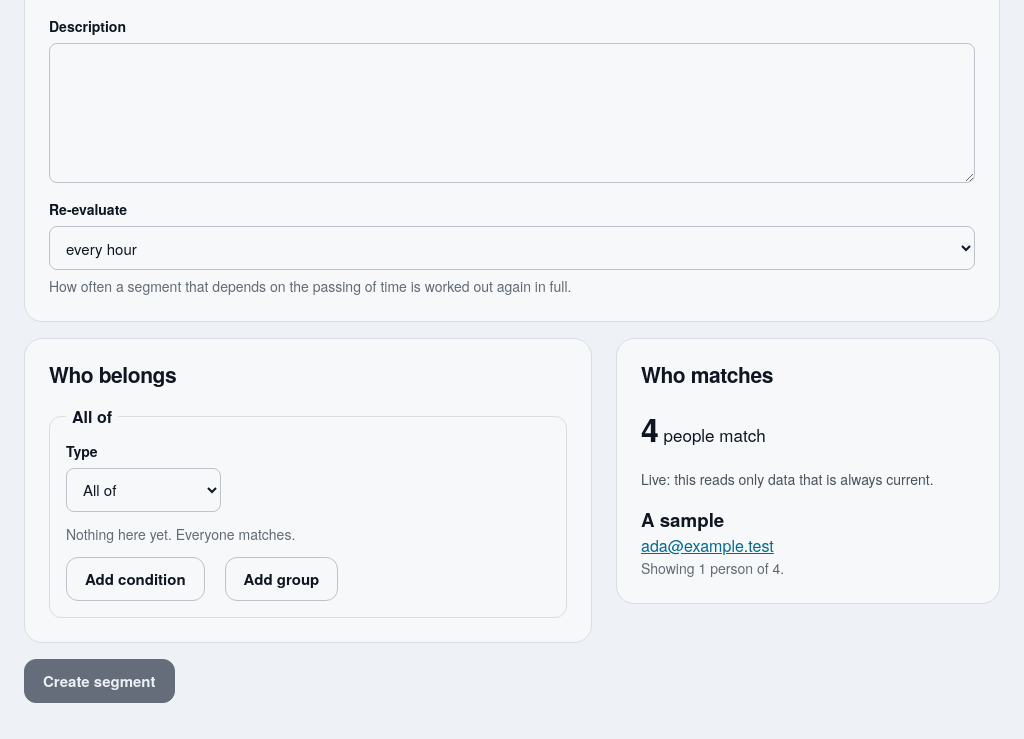
Test case: live count › keeps the last count on screen, marked as updating, while a new one is fetched
(page scrolled)
expect the element showing "4 people match" is shown: met, box [641,406,766,452]
Click the button named "Add group to All of".
click(281, 579)  # box [225,557,338,601]
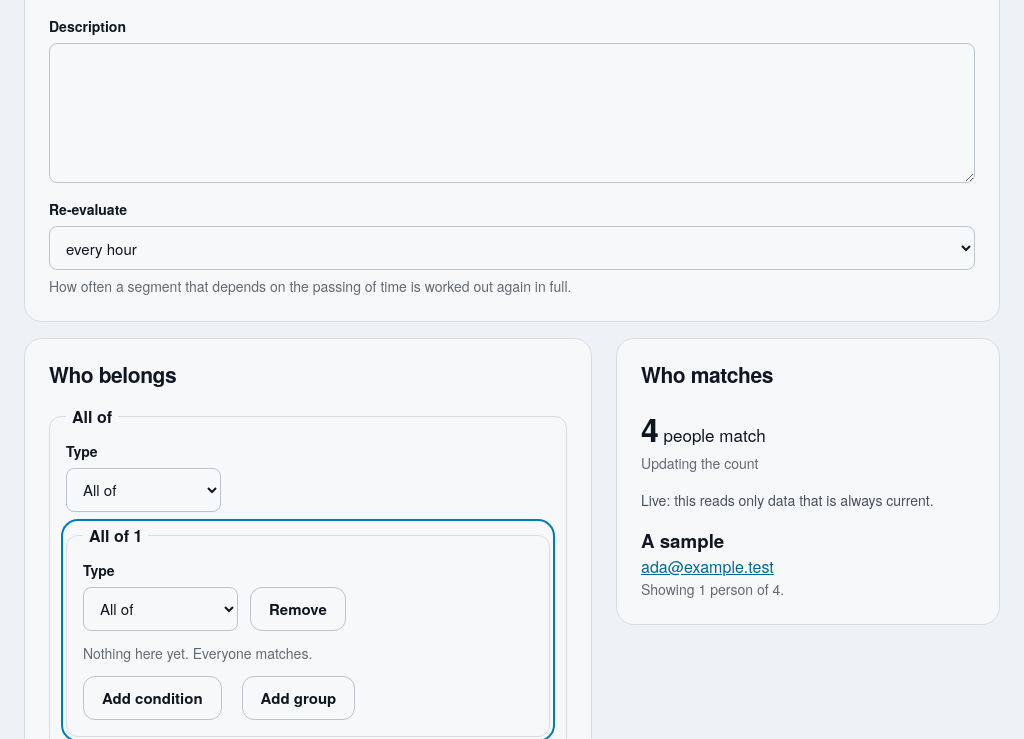
expect the element showing "4 people match" is shown: met, box [641,406,766,452]
expect the text "Updating the count" is shown: met, box [641,453,758,473]
